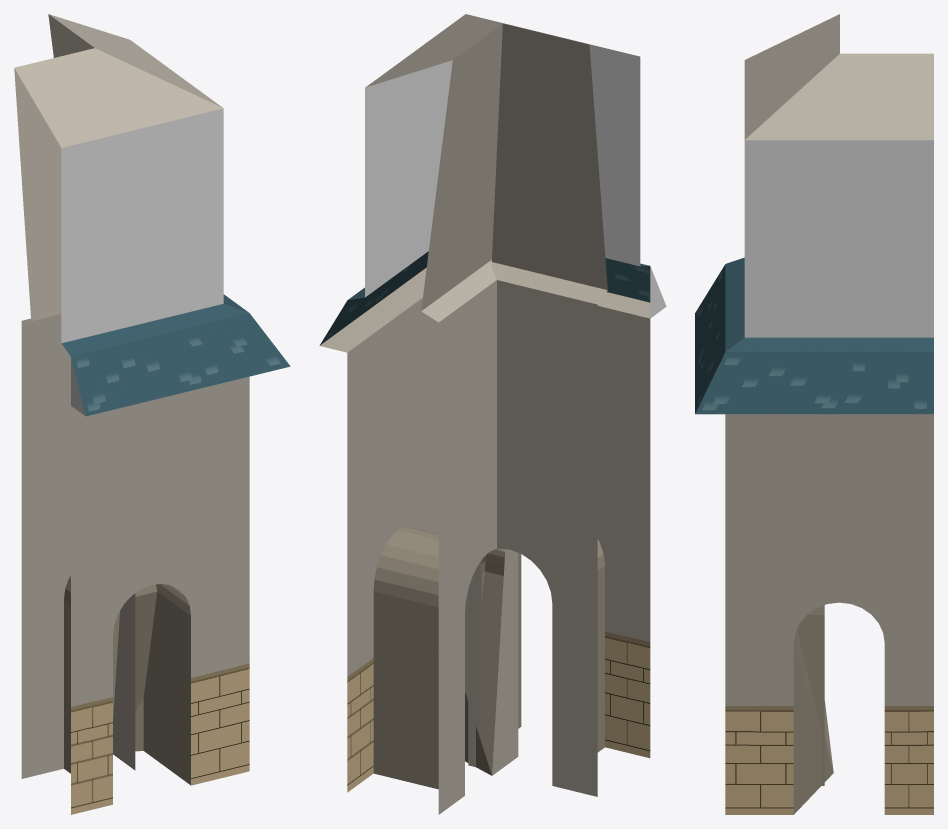
File: SM_MursCorner.fbx
3 renders of one model, left to right at view 1: azimuth 30°, elevation 25°; view 2: azimuth 150°, elevation 25°; view 3: azimuth 270°, elevation 25°, orthographic. The views are drawn at different scales.
Parts seen in each view (by area): view 1: MurSimple5; view 2: MurSimple5; view 3: MurSimple5.
Part boxes in pixels (box(x1,y1,x2,y2)): MurSimple5: box(14, 14, 290, 814); MurSimple5: box(319, 14, 666, 814); MurSimple5: box(695, 14, 933, 814).
Size of the model in its own units: 2.52 by 8.31 by 2.52.
